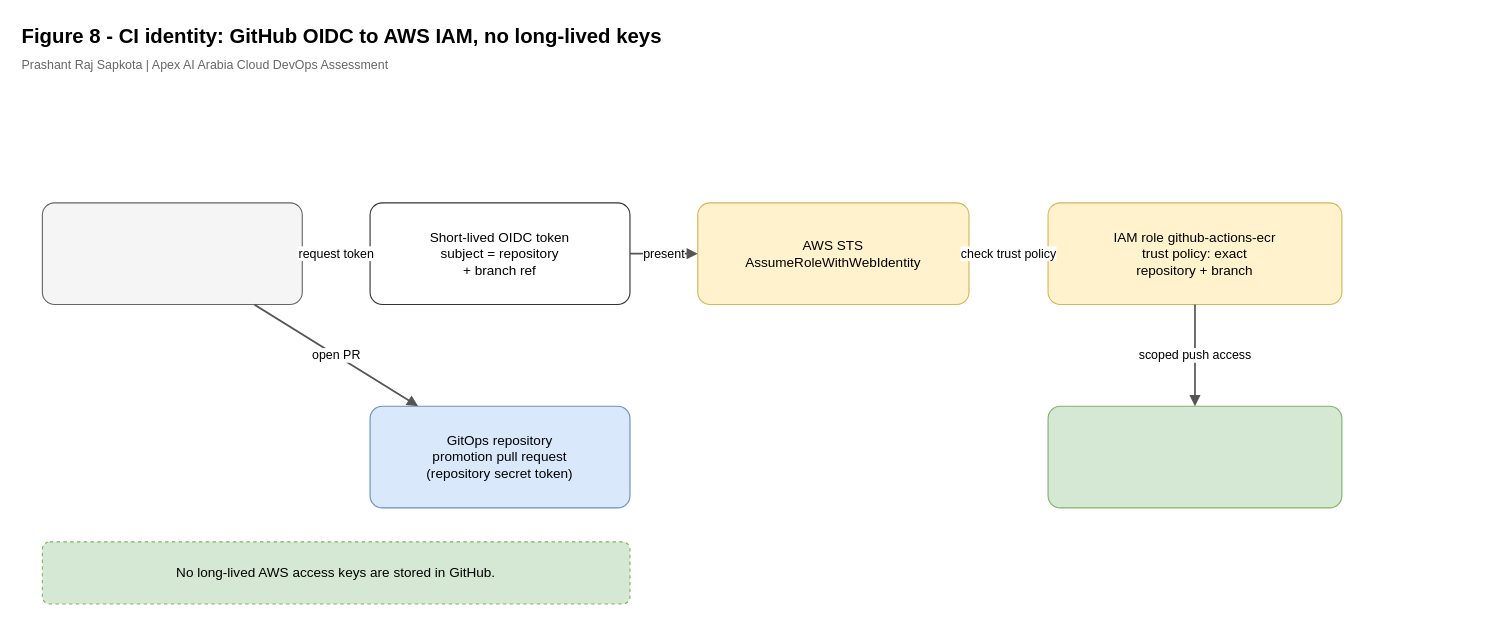
The diagram is 1485 pixels wide and 624 high, and some of its shapes have lost their labels. The centre of each missing label's shape, as x and y in pixels:
ECR immutable tags, scan on push: pixel 1194 456
GitHub Actions job repository + branch: pixel 171 253
